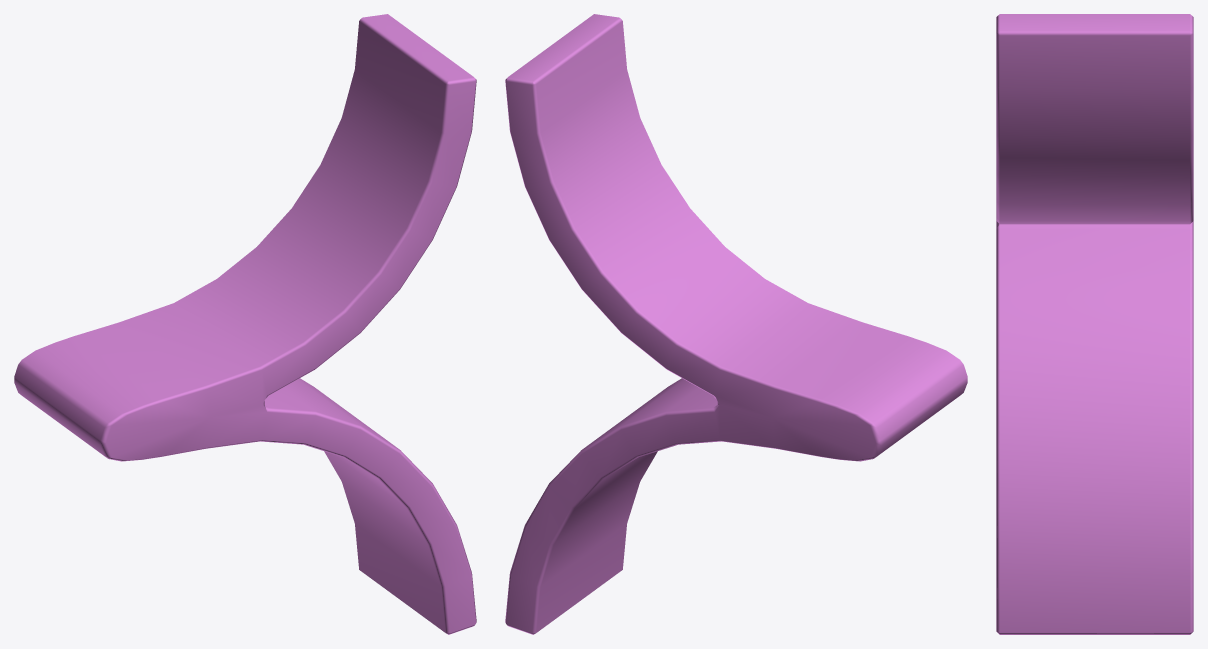
File: pedeswayDouble.fbx
3 renders of one model, left to right at view 1: azimuth 30°, elevation 25°; view 2: azimuth 150°, elevation 25°; view 3: azimuth 270°, elevation 25°, orthographic. The views are drawn at different scales.
Parts seen in each view (by area): view 1: Circle.014; view 2: Circle.014; view 3: Circle.014.
Boxes of the visible parts, left/top/right/bottom form: Circle.014: left=14, top=14, right=476, bottom=634; Circle.014: left=505, top=14, right=967, bottom=634; Circle.014: left=996, top=14, right=1193, bottom=634.
Size of the model in its own units: 5.81 by 8.18 by 2.4.
